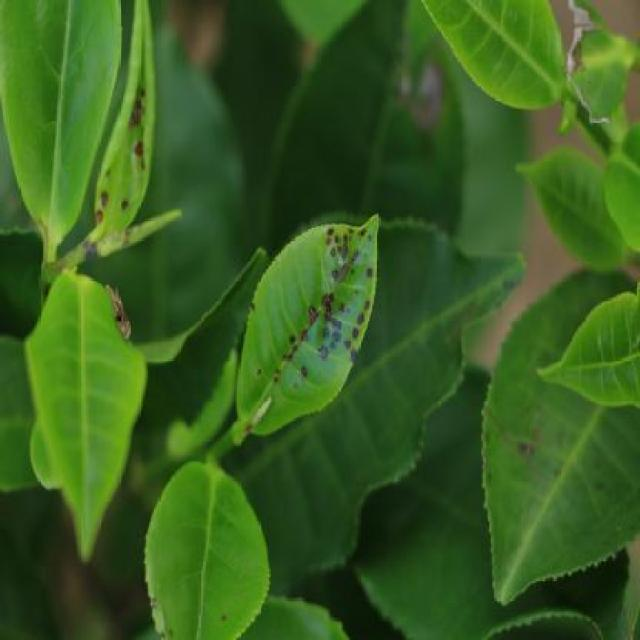Tea Mosquito bug infested leaf: (234, 218, 381, 451), (94, 31, 158, 264)
